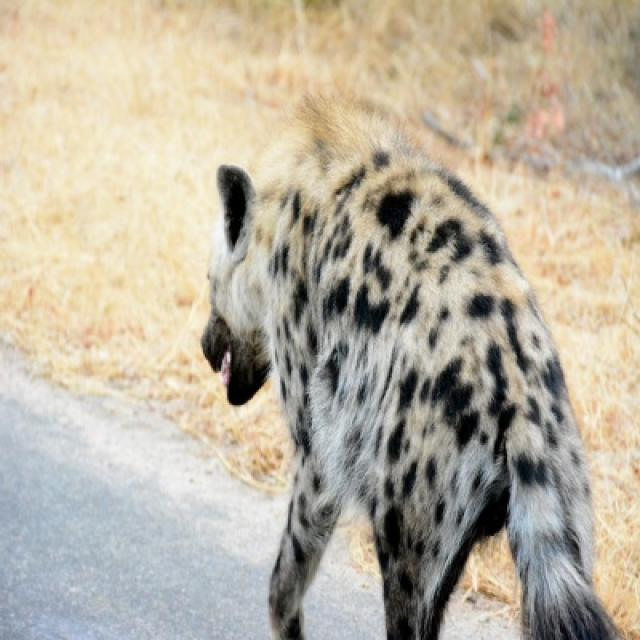hyena: (202, 118, 624, 638)
